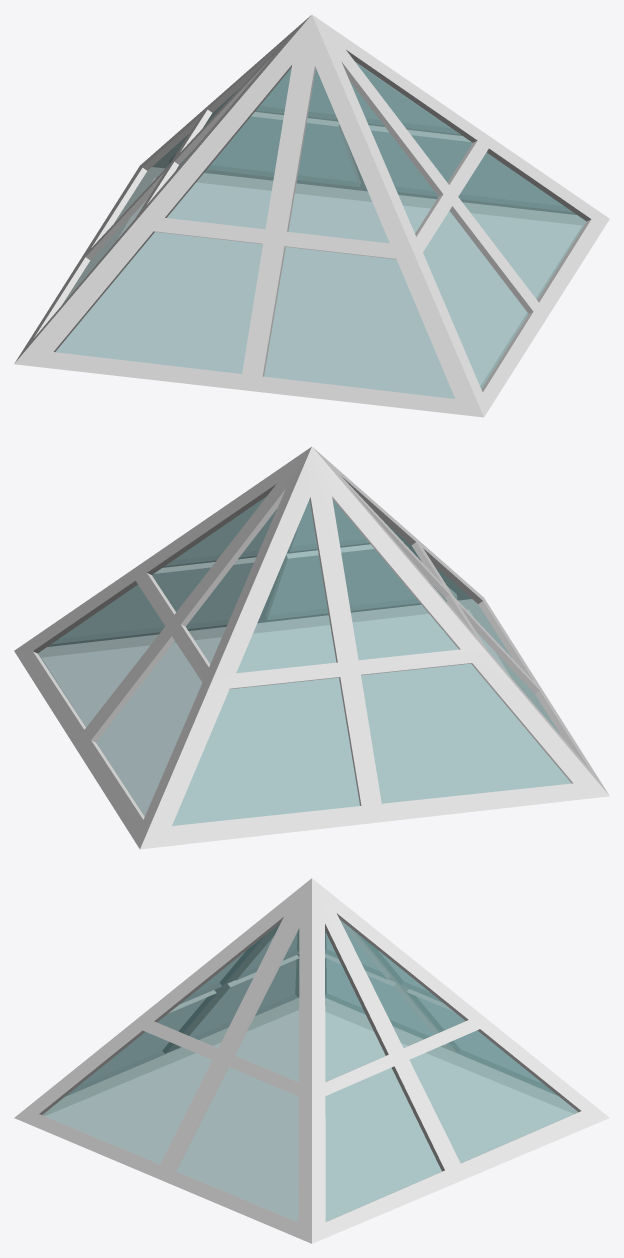
File: Dakraam.fbx
3 views of the same model, one above another, from view 1: azimuth 30°, elevation 25°; view 2: azimuth 150°, elevation 25°; view 3: azimuth 270°, elevation 25° (orthographic). The views are drawn at different scales.
Visible parts, largest first — view 1: pPyramid1; view 2: pPyramid1; view 3: pPyramid1.
Boxes of the visible parts, bbox=[...] form: pPyramid1: bbox=[14, 14, 609, 417]; pPyramid1: bbox=[14, 446, 609, 849]; pPyramid1: bbox=[14, 878, 609, 1243].
Bounding box in the file's own units: 94.58 × 42.02 × 94.58.
